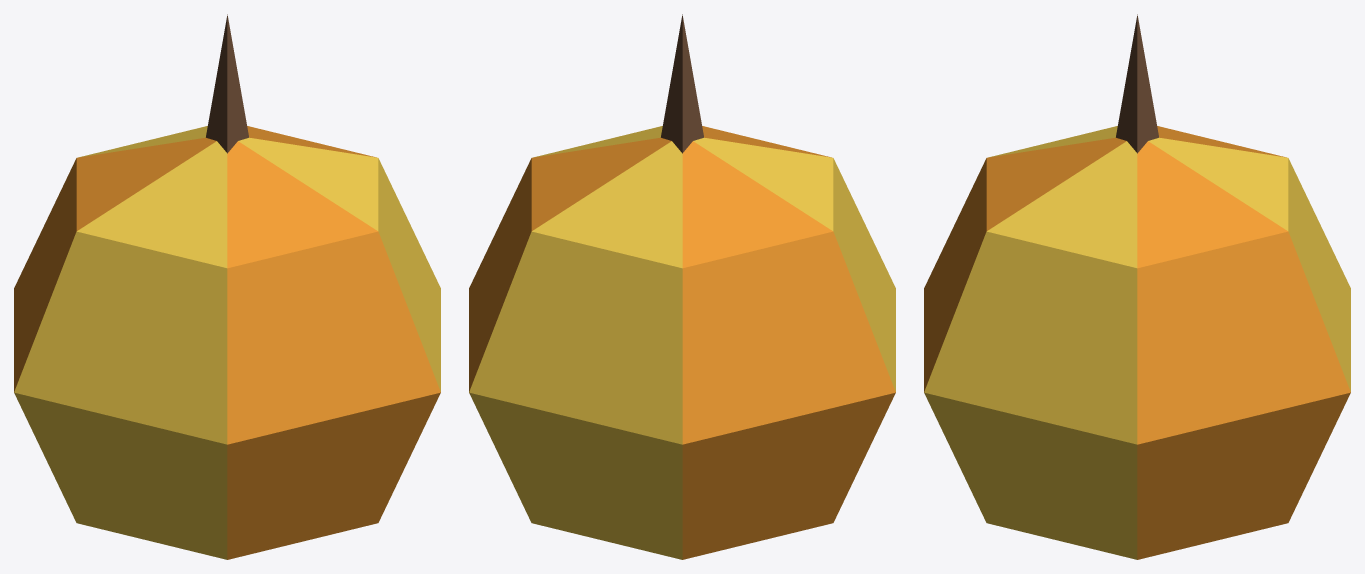
Rendered from food_fruit_b.obj.
3 views of the same model, side by side, from view 1: azimuth 30°, elevation 25°; view 2: azimuth 150°, elevation 25°; view 3: azimuth 270°, elevation 25° (orthographic).
Parts seen in each view (by area): view 1: food_fruit_b; view 2: food_fruit_b; view 3: food_fruit_b.
Part boxes in pixels (x1=…): food_fruit_b: x1=14, y1=14, x2=440, y2=559; food_fruit_b: x1=469, y1=14, x2=895, y2=559; food_fruit_b: x1=924, y1=14, x2=1350, y2=559.
Bounding box in the file's own units: 1.04 × 1.24 × 0.9007.
